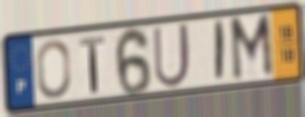6: (112, 24, 154, 98)
I: (213, 18, 227, 85)
M: (227, 11, 276, 85)
O: (35, 38, 72, 101)
T: (78, 34, 107, 96)
U: (151, 20, 192, 91)
